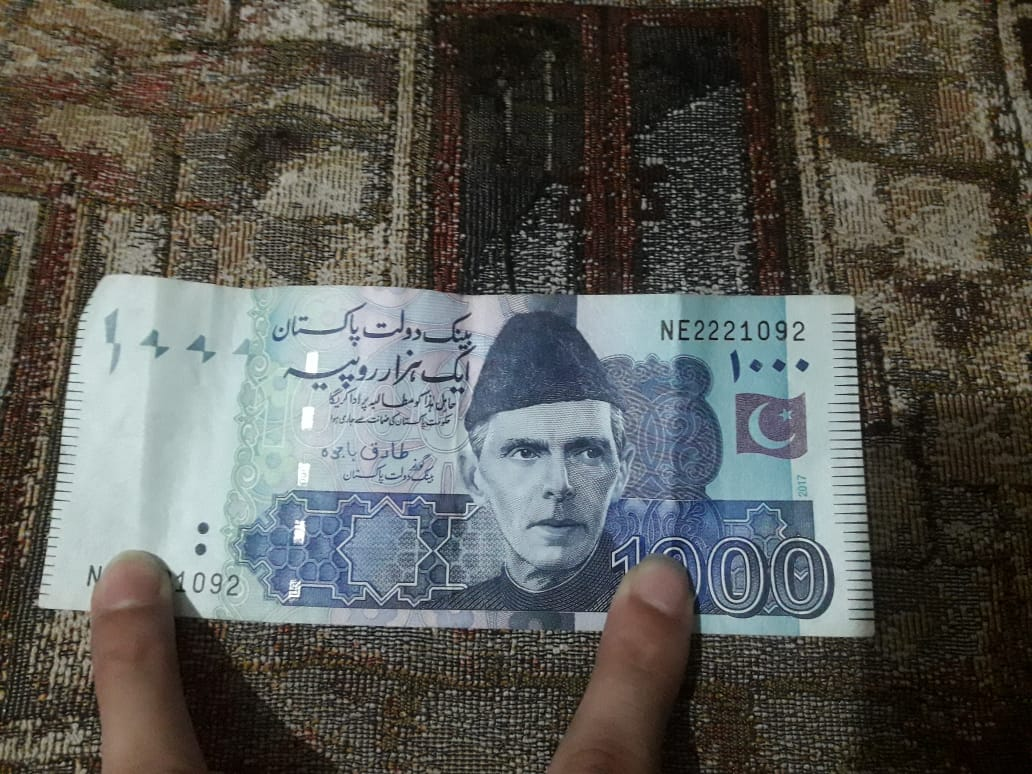1000 rupee: (53, 224, 878, 654)
